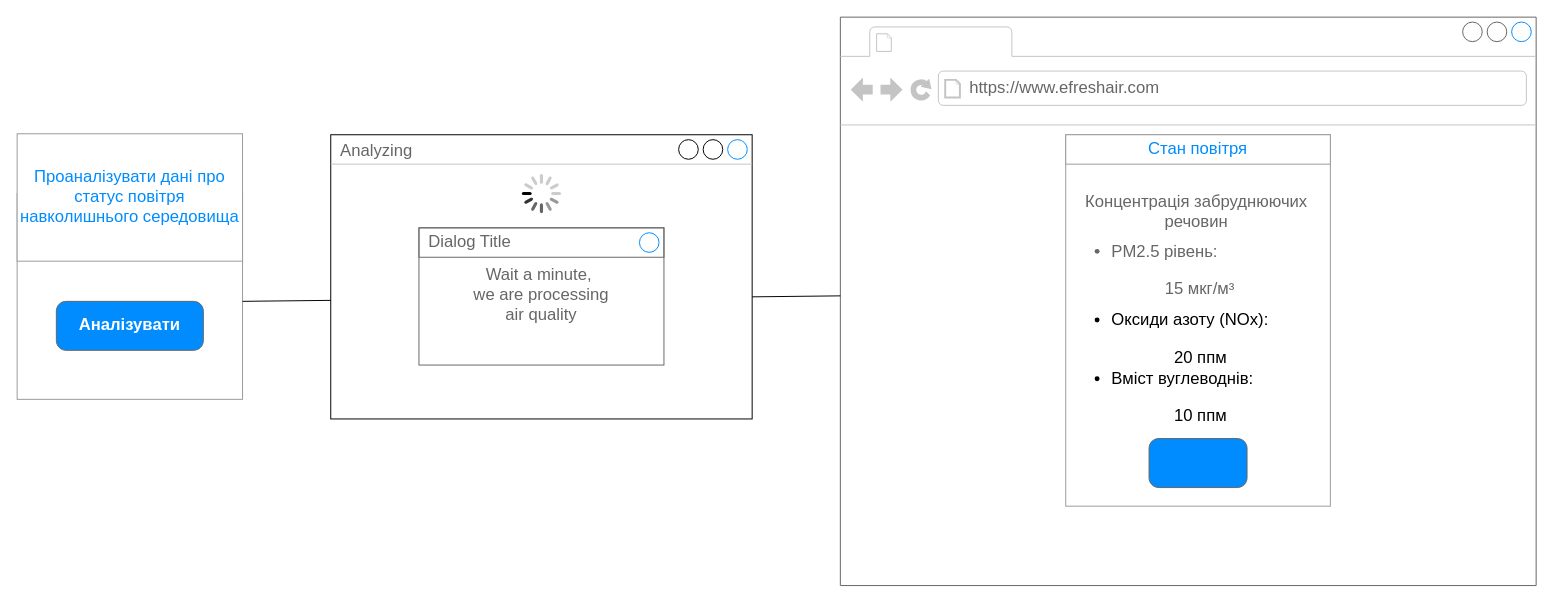
The diagram is 1553 pixels wide and 603 high, and some of its shapes have lost their labels. The centre of each missing label's shape, as x and y in pixels:
OK: pixel 1197 463
Page 1: pixel 952 41
